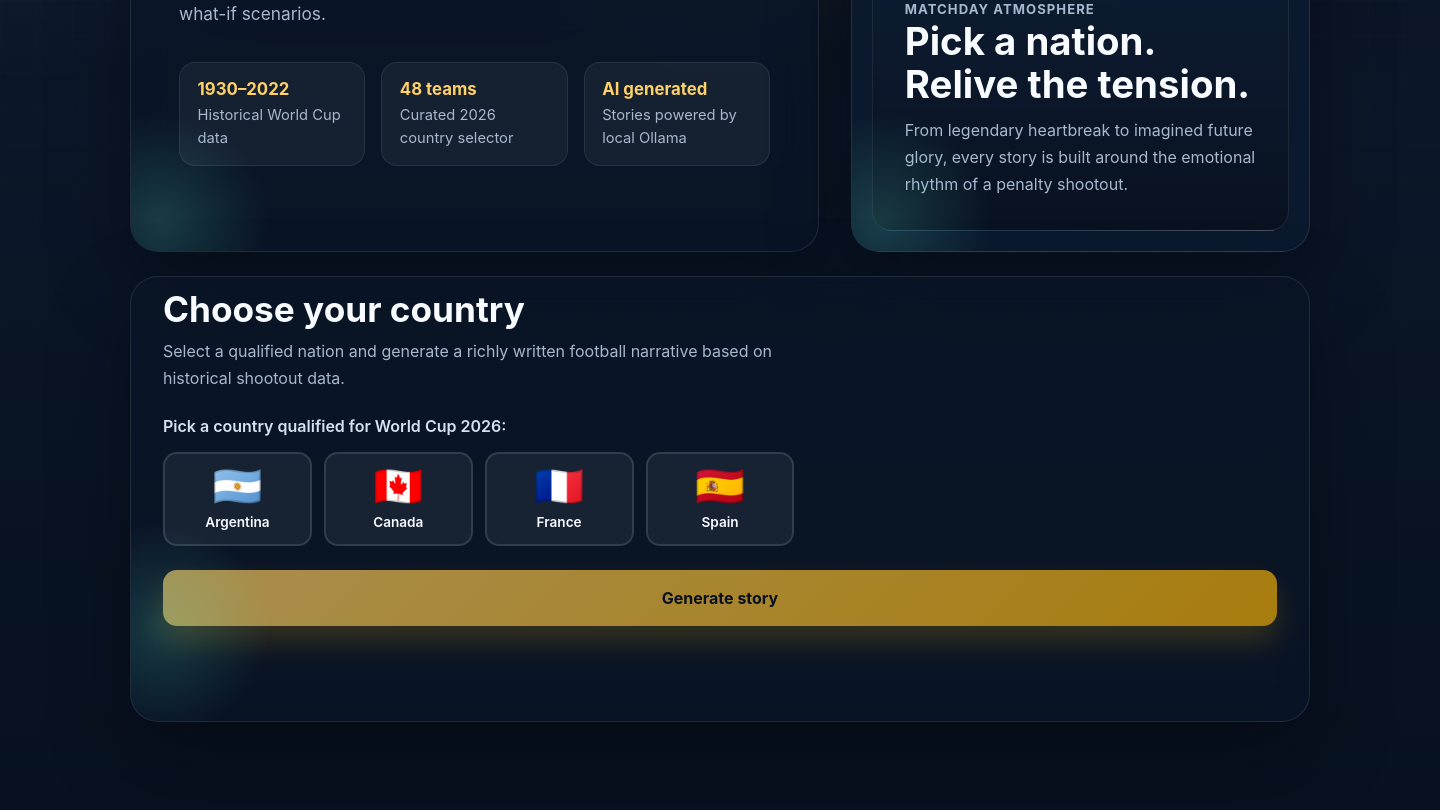
Test: App — speculative story flow › renders the StoryCard with the speculative badge for a country without history
(page scrolled)
Click the button "🇨🇦 Canada".
click(398, 499)  # box [324,452,473,546]
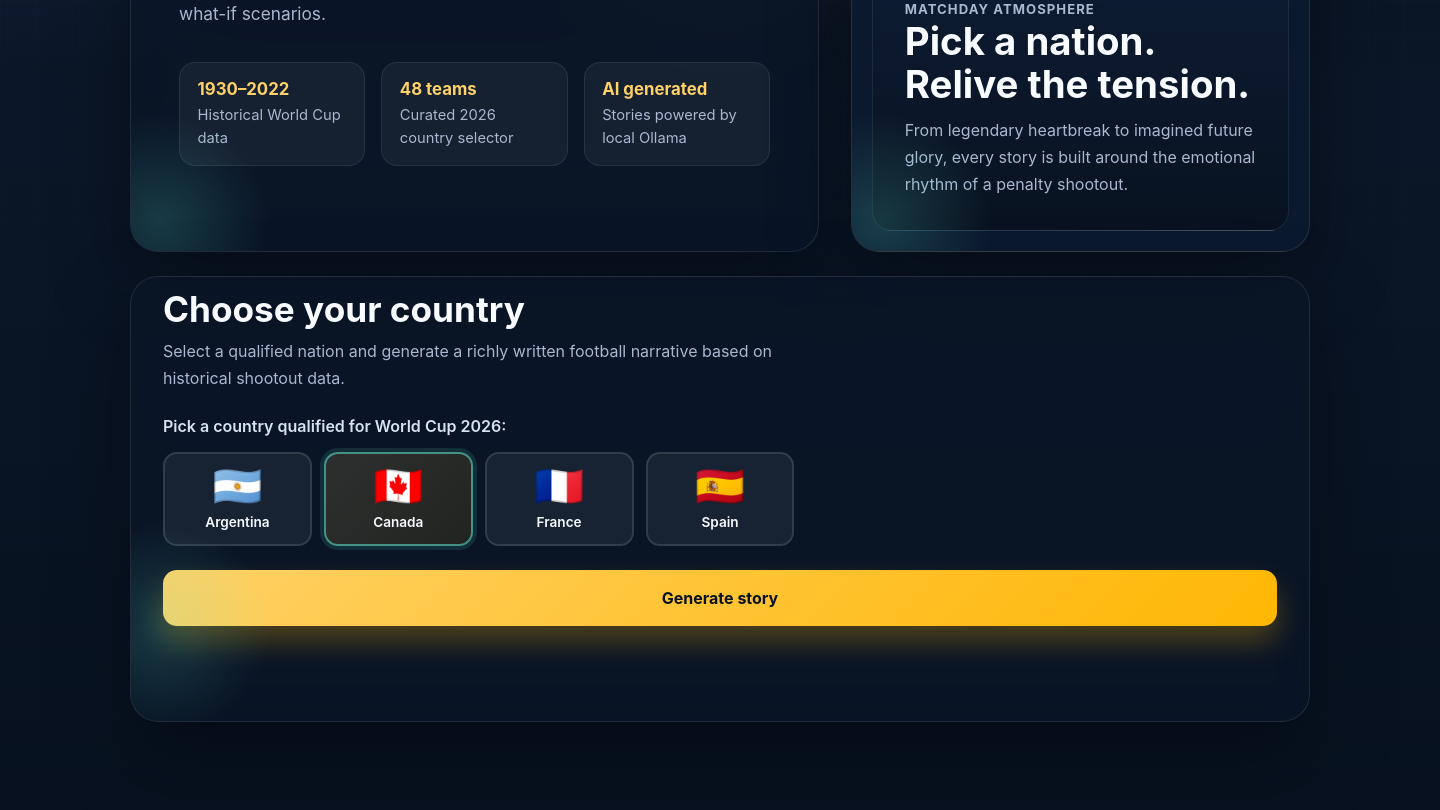
Click the button "Generate story".
click(720, 598)  # box [163,570,1277,626]
(page scrolled)
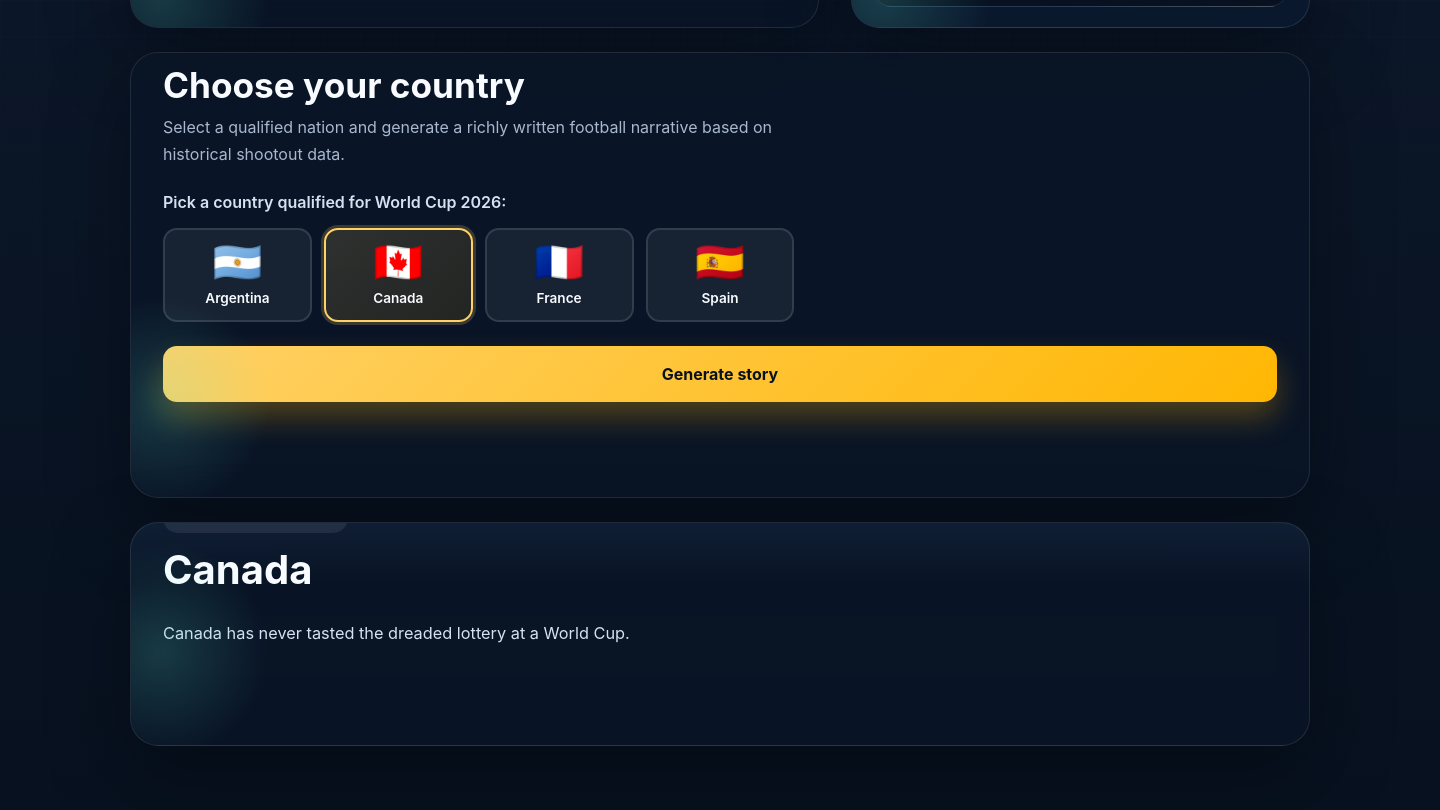
Expected: the text "Canada has never tasted the dreaded lottery at a World Cup." is shown, [163,623,630,643]
